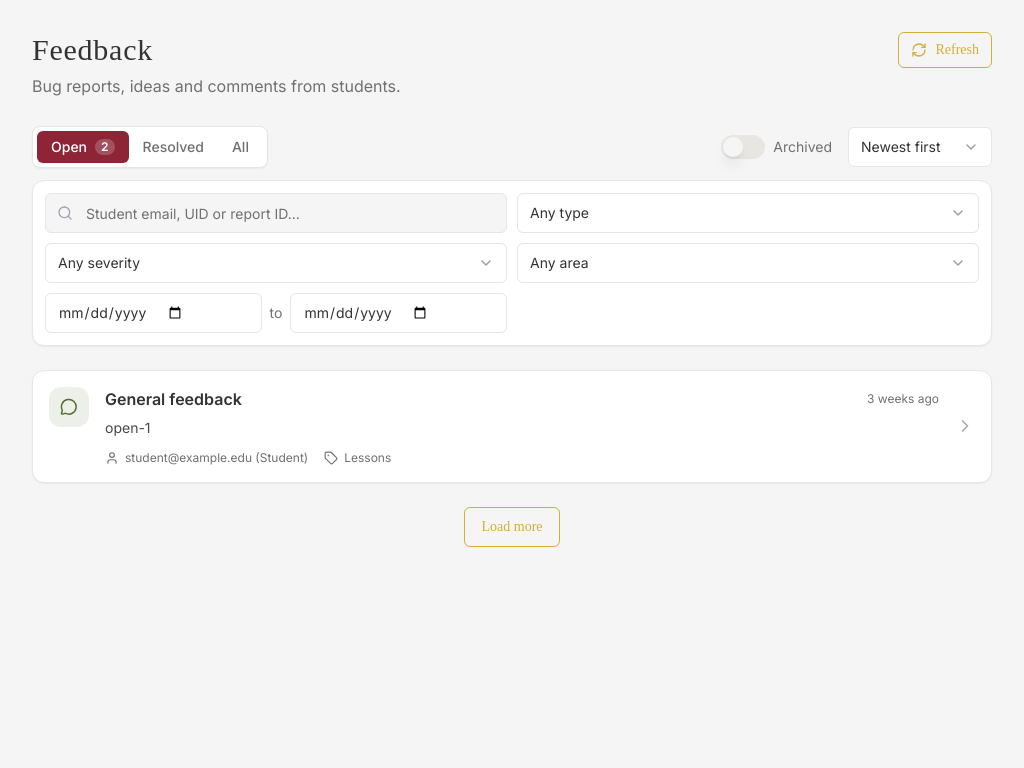
Scenario: reconnect keeps the pages loaded with "Load more"
The width and height of the screenshot is (1024, 768).
Expected: the text "open-1" is shown, [105,419,150,436]
Step 1. Click the button "Load more" → (512, 527), box [464,507,560,547]
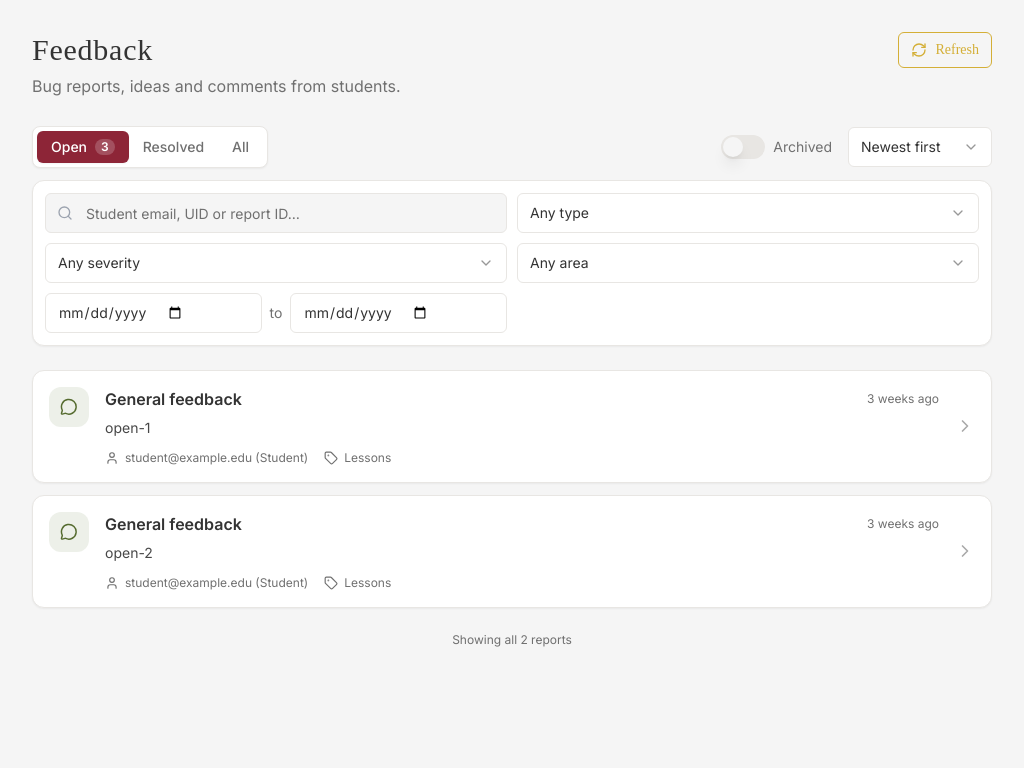
Expected: the text "open-2" is shown, [105,544,153,561]
